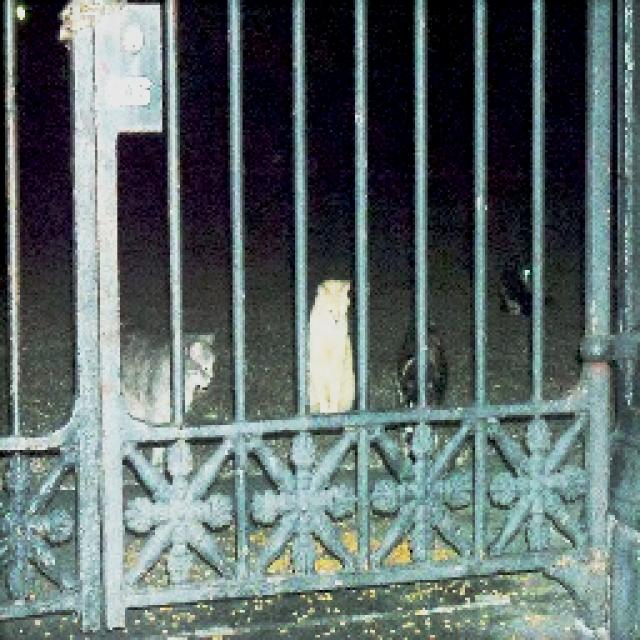cat: (106, 310, 228, 428), (300, 266, 369, 419)
